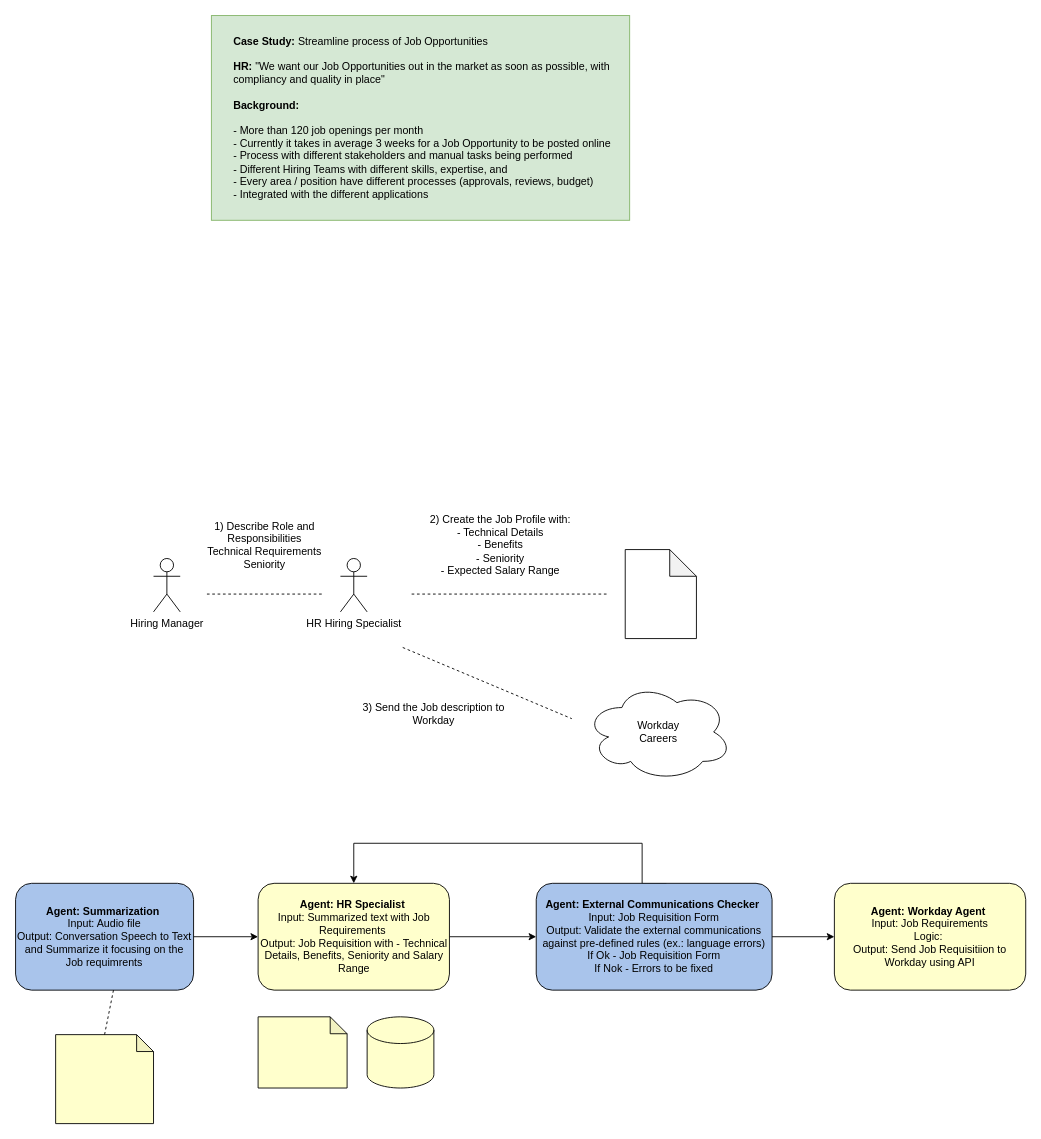
Image size: 1041x1139. Some labels were removed from this diagram. Each missing label, with the box of its shape:
Audio file with Conversation from Hiring Manager and HR: (55, 1034, 154, 1124)
Job Requisition Document: (624, 549, 696, 639)
Job Templates (+ Benefits): (257, 1016, 347, 1088)
Salary Ranges per Seniority: (366, 1016, 434, 1088)
